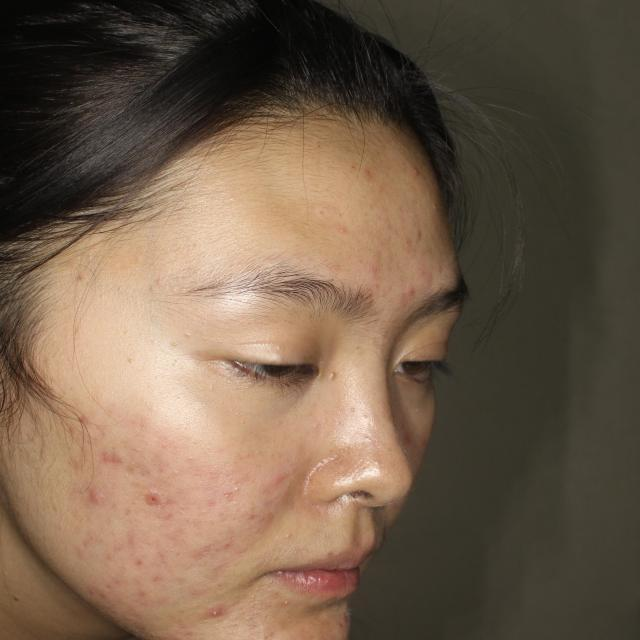acne: (401, 157, 436, 188), (133, 482, 166, 513), (405, 278, 440, 305), (199, 596, 227, 626), (98, 441, 125, 471), (86, 581, 109, 606), (360, 258, 386, 279), (75, 410, 94, 438), (353, 167, 382, 184), (86, 486, 108, 508)
